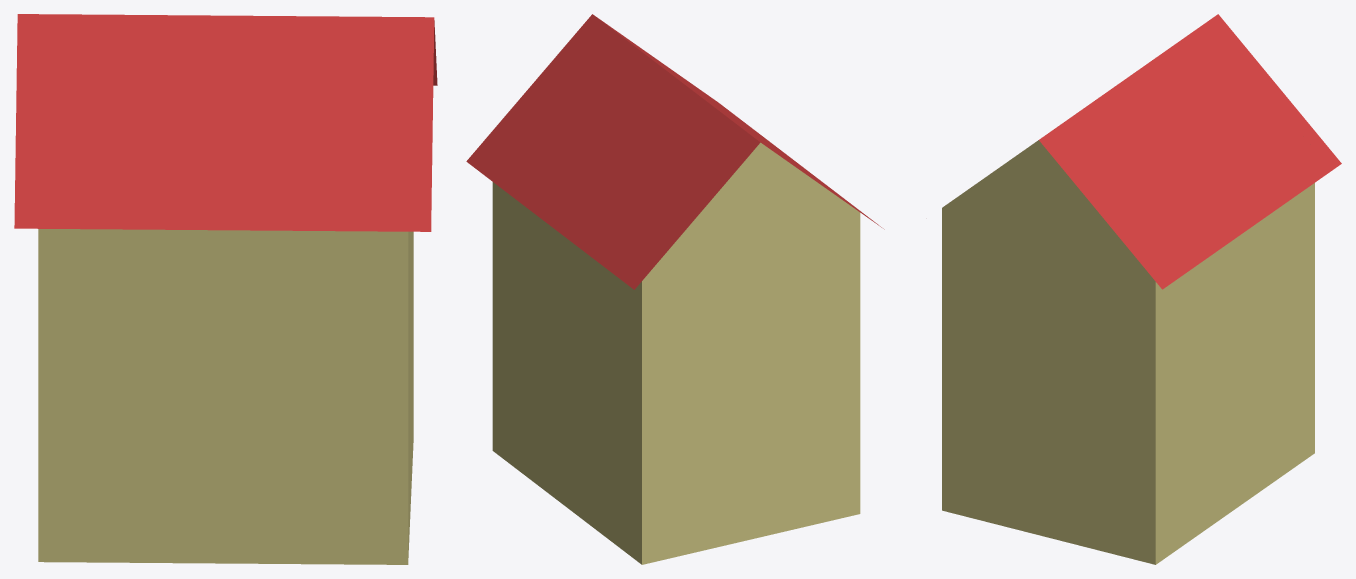
3 renders of one model, left to right at view 1: azimuth 30°, elevation 25°; view 2: azimuth 150°, elevation 25°; view 3: azimuth 270°, elevation 25°, orthographic. The views are drawn at different scales.
Parts seen in each view (by area): view 1: group_5, group_3, group_4; view 2: group_5, group_3, group_4; view 3: group_5, group_3, group_4.
Boxes of the visible parts, left/top/right/bottom form: group_5: left=38, top=229, right=413, bottom=564; group_3: left=14, top=14, right=434, bottom=231; group_4: left=14, top=14, right=437, bottom=228; group_5: left=492, top=142, right=860, bottom=564; group_3: left=466, top=14, right=871, bottom=289; group_4: left=578, top=15, right=883, bottom=289; group_5: left=942, top=140, right=1314, bottom=564; group_3: left=1039, top=14, right=1340, bottom=289; group_4: left=1219, top=15, right=1341, bottom=198.
Bounding box in the file's own units: 17.14 × 16.37 × 17.12.
